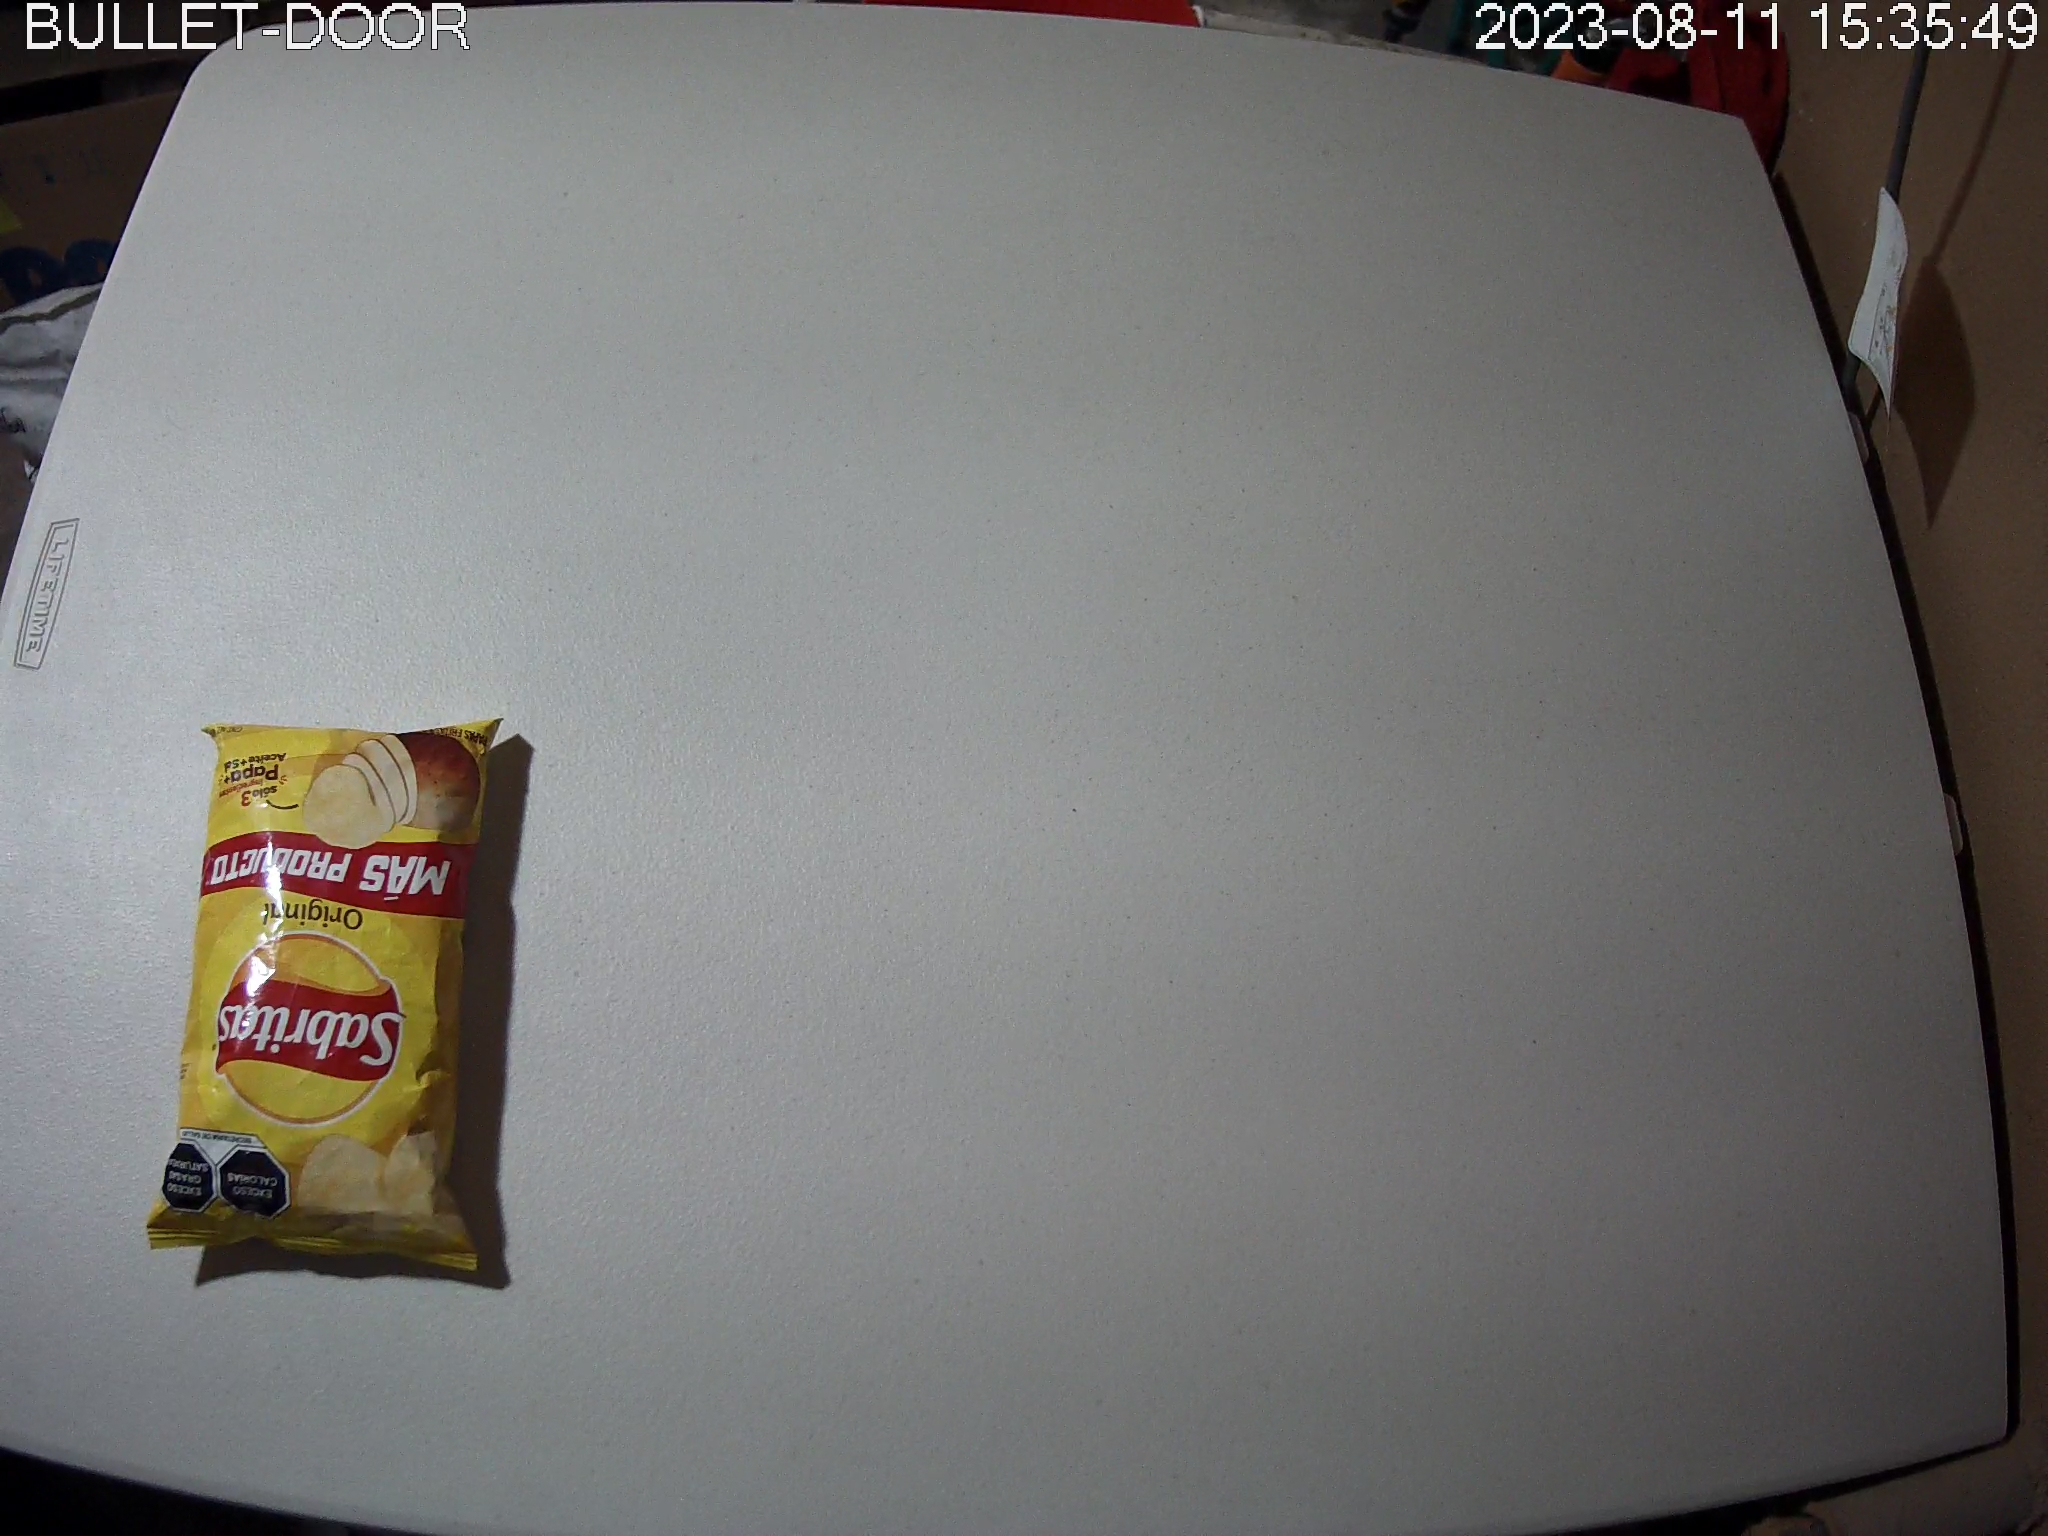Sabritas_45_F: (147, 720, 506, 1271)
